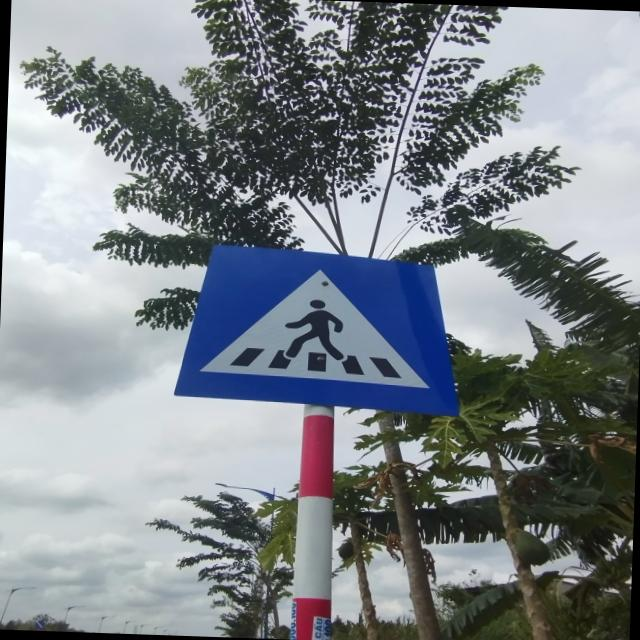Giao_Nhau_Duong_Uu_Tien: (172, 243, 466, 419)
